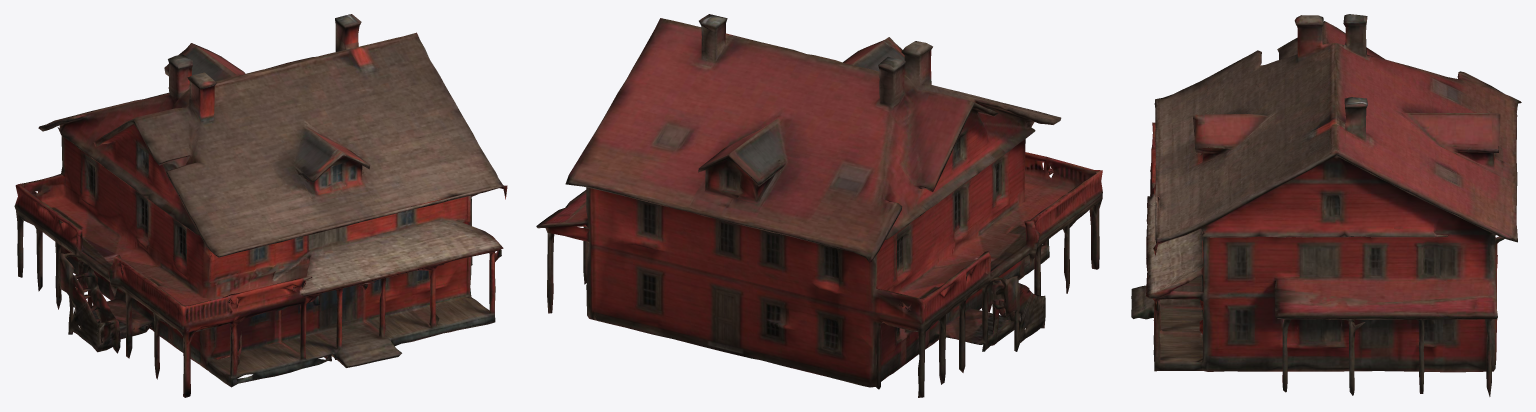
The model's file is old_farm_big_family_h_0222221423_texture.fbx.
3 views of the same model, side by side, from view 1: azimuth 30°, elevation 25°; view 2: azimuth 150°, elevation 25°; view 3: azimuth 270°, elevation 25° (orthographic). The views are drawn at different scales.
Parts seen in each view (by area): view 1: Mesh1; view 2: Mesh1; view 3: Mesh1.
Boxes of the visible parts, x1,y1,x2,y2 form: Mesh1: [14, 14, 507, 397]; Mesh1: [536, 14, 1102, 397]; Mesh1: [1131, 14, 1521, 396].
Size of the model in its own units: 201 by 127 by 177.
1 material, 1 textured.
